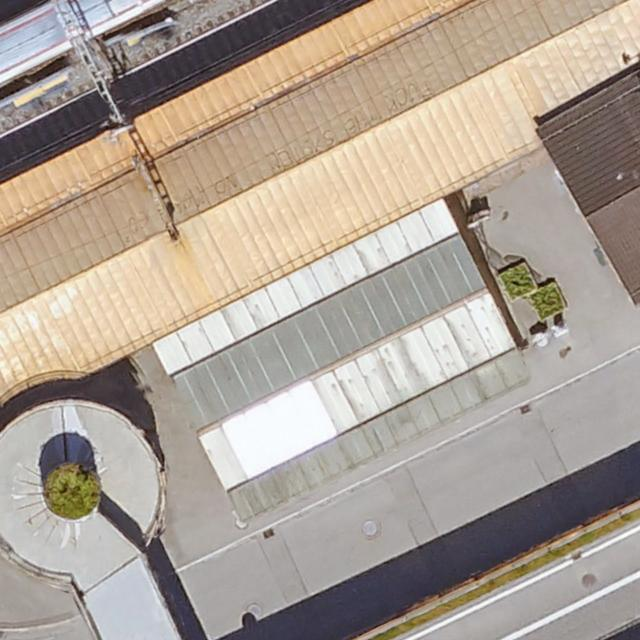tree: (44, 463, 101, 520)
